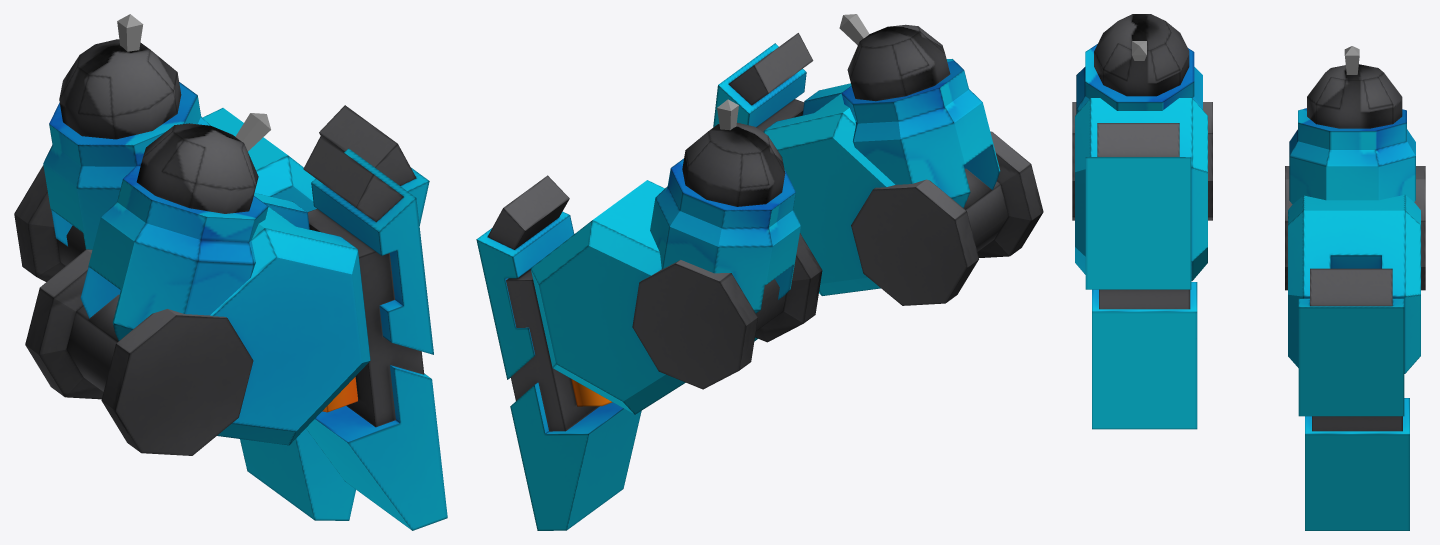
The model's file is Bottom_Running7.obj.
The picture shows the model from 3 angles, left to right: view 1: azimuth 30°, elevation 25°; view 2: azimuth 150°, elevation 25°; view 3: azimuth 270°, elevation 25°; orthographic projection. The views are drawn at different scales.
Visible parts, largest first — view 1: Object013, Object014, Object012, Object009, Object011, Object010, Bone023, Bone006; view 2: Object010, Object013, Object011, Object009, Object012, Object014; view 3: Object014, Object011, Object009, Object010, Object012, Object013.
Boxes of the visible parts, bbox=[...] form: Object013: bbox=[25, 193, 370, 455]; Object014: bbox=[303, 136, 447, 530]; Object012: bbox=[80, 123, 268, 340]; Object009: bbox=[43, 39, 210, 249]; Object011: bbox=[240, 105, 429, 520]; Object010: bbox=[14, 108, 316, 281]; Bone023: bbox=[235, 113, 270, 151]; Bone006: bbox=[117, 14, 143, 51]; Object010: bbox=[530, 180, 822, 414]; Object013: bbox=[763, 83, 1043, 305]; Object011: bbox=[476, 175, 641, 530]; Object009: bbox=[650, 122, 800, 313]; Object012: bbox=[841, 24, 1000, 207]; Object014: bbox=[713, 33, 813, 341]; Object014: bbox=[1085, 123, 1197, 429]; Object011: bbox=[1298, 268, 1409, 530]; Object009: bbox=[1289, 64, 1415, 204]; Object010: bbox=[1285, 166, 1425, 373]; Object012: bbox=[1076, 14, 1202, 113]; Object013: bbox=[1072, 98, 1212, 281].
Size of the model in its own units: 111 by 122 by 94.84.
